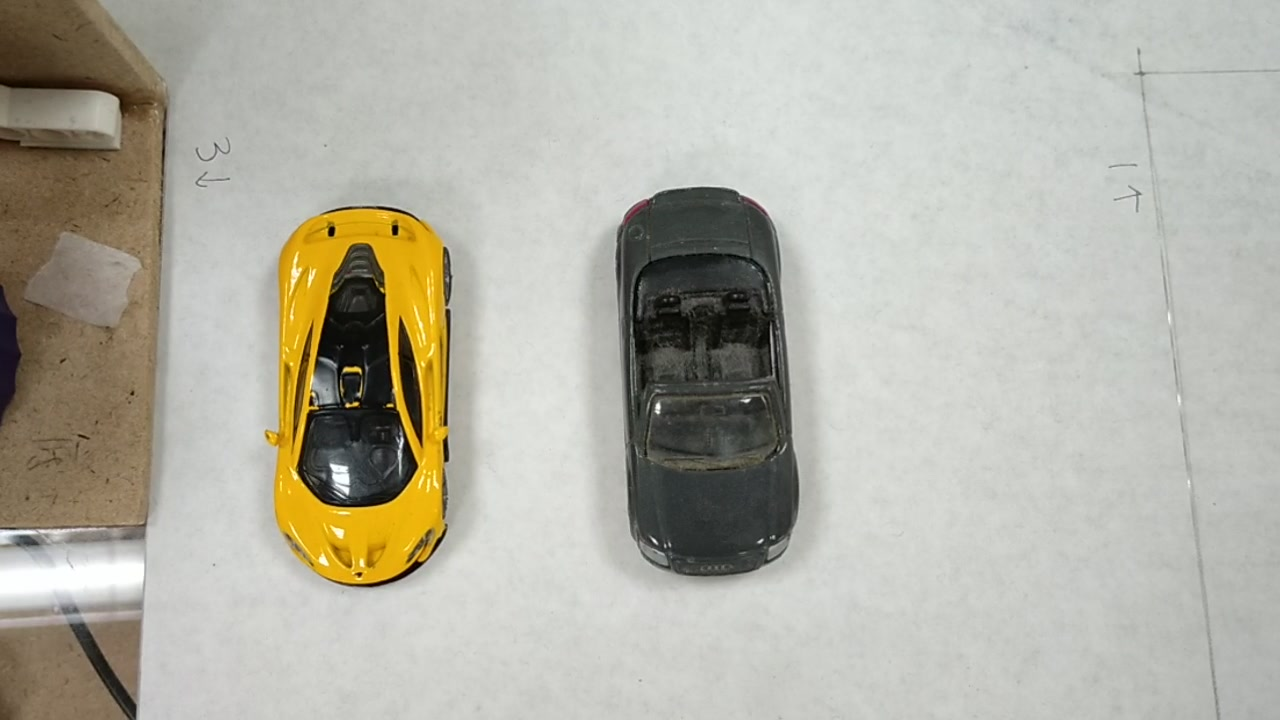car: (277, 214, 450, 582), (631, 188, 790, 552)
